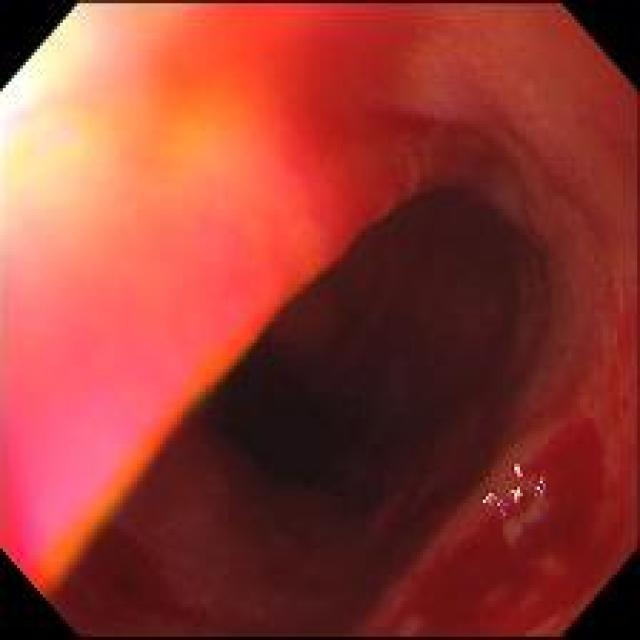blood: (382, 414, 625, 637)
color misalignment: (30, 259, 334, 599), (480, 463, 552, 521)
contrast: (206, 322, 401, 539)
saturation: (2, 5, 138, 218)
specularity: (515, 465, 522, 476), (516, 487, 520, 500), (484, 497, 490, 504), (537, 486, 541, 491), (508, 492, 514, 495), (540, 479, 543, 484), (500, 500, 504, 502), (498, 505, 500, 507)
